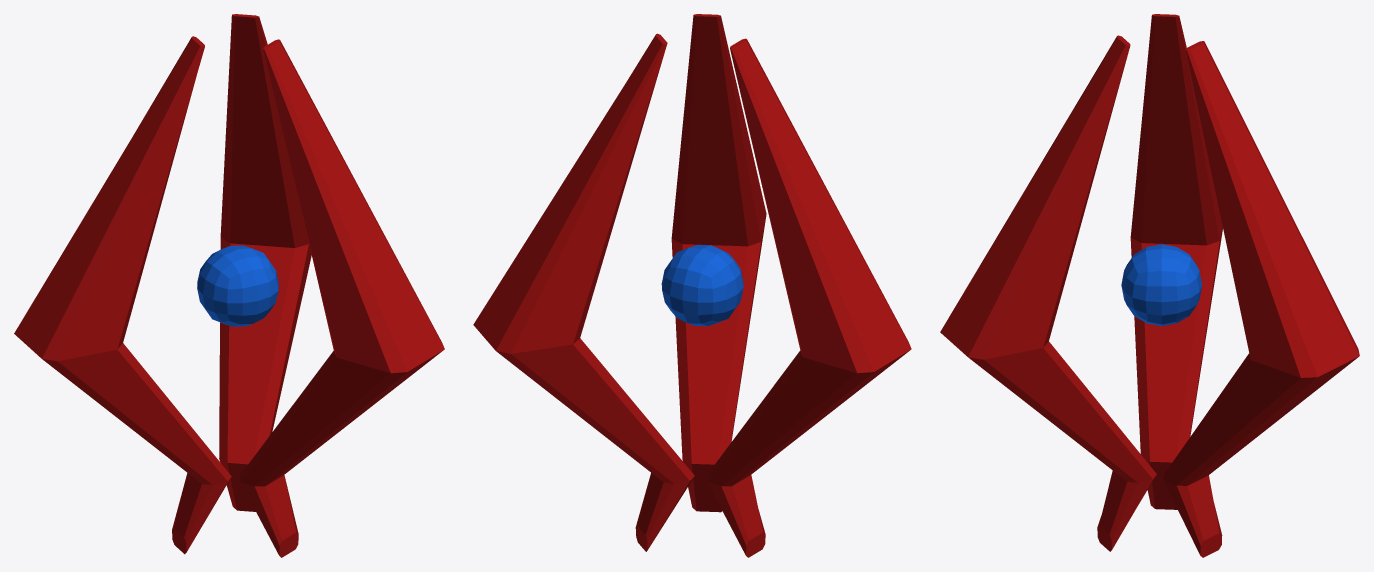
File: RedEnemyTest.FBX
The picture shows the model from 3 angles, left to right: view 1: azimuth 30°, elevation 25°; view 2: azimuth 150°, elevation 25°; view 3: azimuth 270°, elevation 25°; orthographic projection.
Parts seen in each view (by area): view 1: enemy_redCore; view 2: enemy_redCore; view 3: enemy_redCore.
Part boxes in pixels (x1=…): enemy_redCore: x1=14, y1=14, x2=444, y2=557; enemy_redCore: x1=473, y1=14, x2=911, y2=557; enemy_redCore: x1=940, y1=14, x2=1359, y2=557.
Size of the model in its own units: 38.55 by 52.39 by 39.64.
